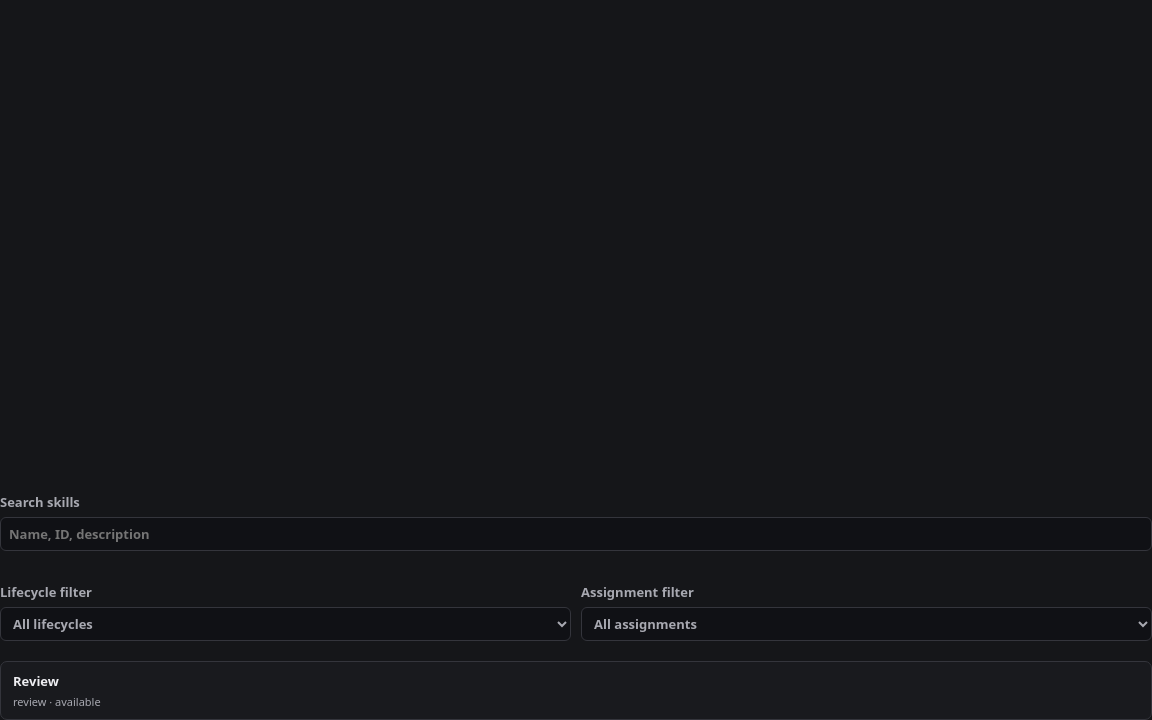
Test: uses the Settings primary surface and portals only the inventory
Expected: the field labelled "Content" is not shown
Click the button "Review review · available" at (36, 681), box [13,672,1139,709]
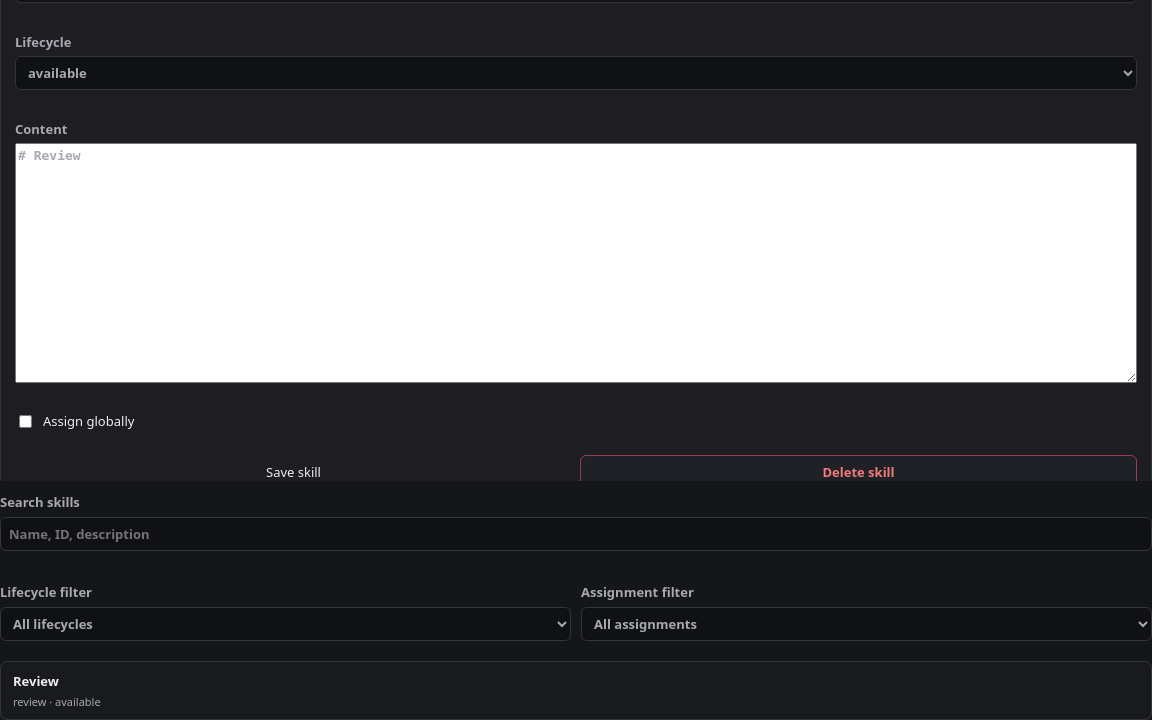
Now the text box labelled "Content" holds "# Review", box [15,143,1137,383]
Type "missing" into the search field labelled "Search skills" at (576, 534), box [0,517,1151,551]
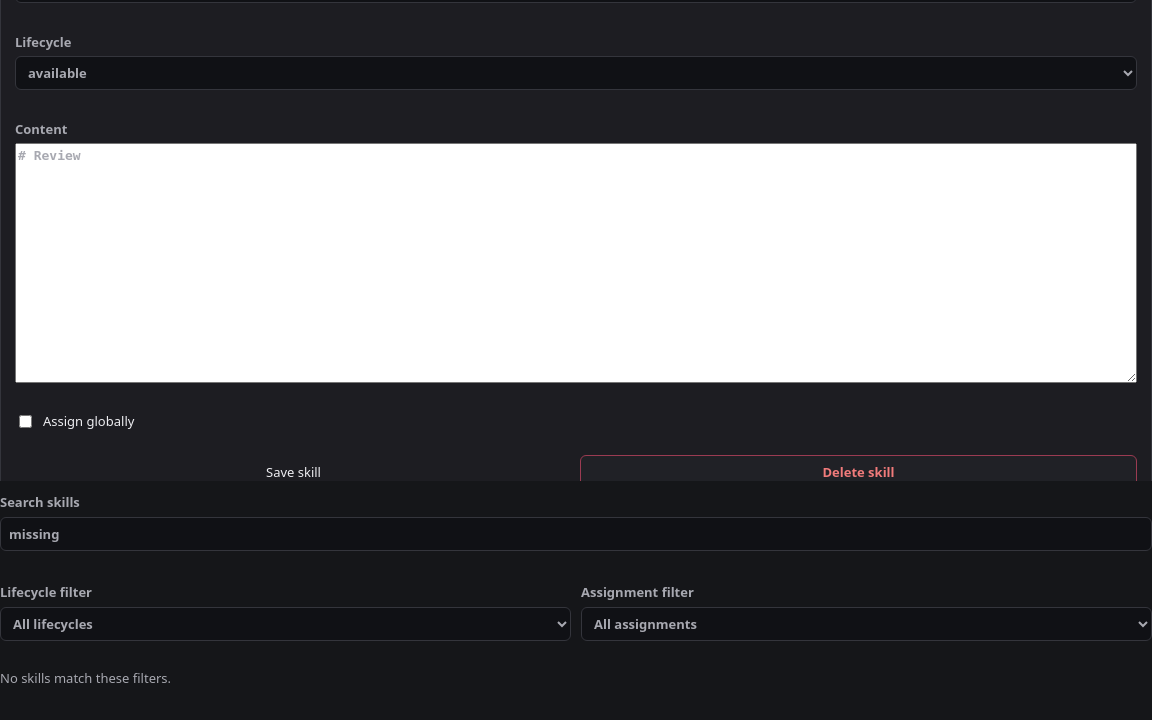
Now the text box labelled "Content" holds "# Review", box [15,143,1137,383]
Now the text "No skills match these filters." is shown, box [0,669,171,687]
